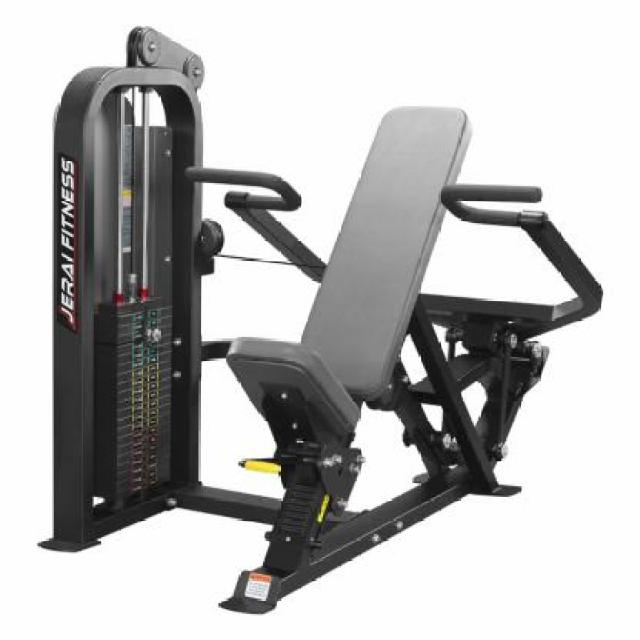shoulder press machine: (20, 26, 631, 622)
